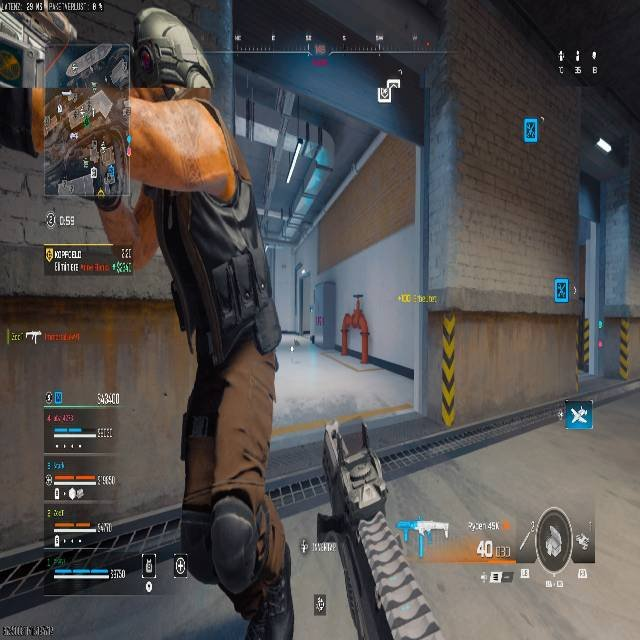head: (133, 7, 209, 94)
player: (11, 2, 281, 476), (338, 301, 370, 360)
